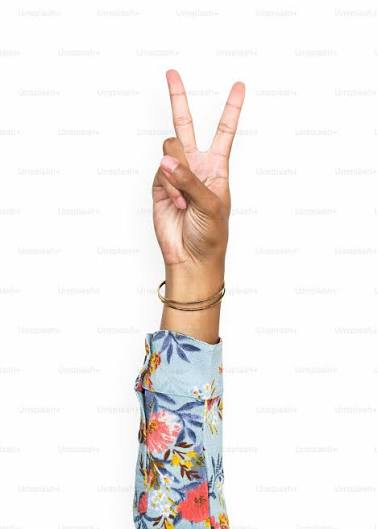peace_sign: (144, 55, 251, 280)
